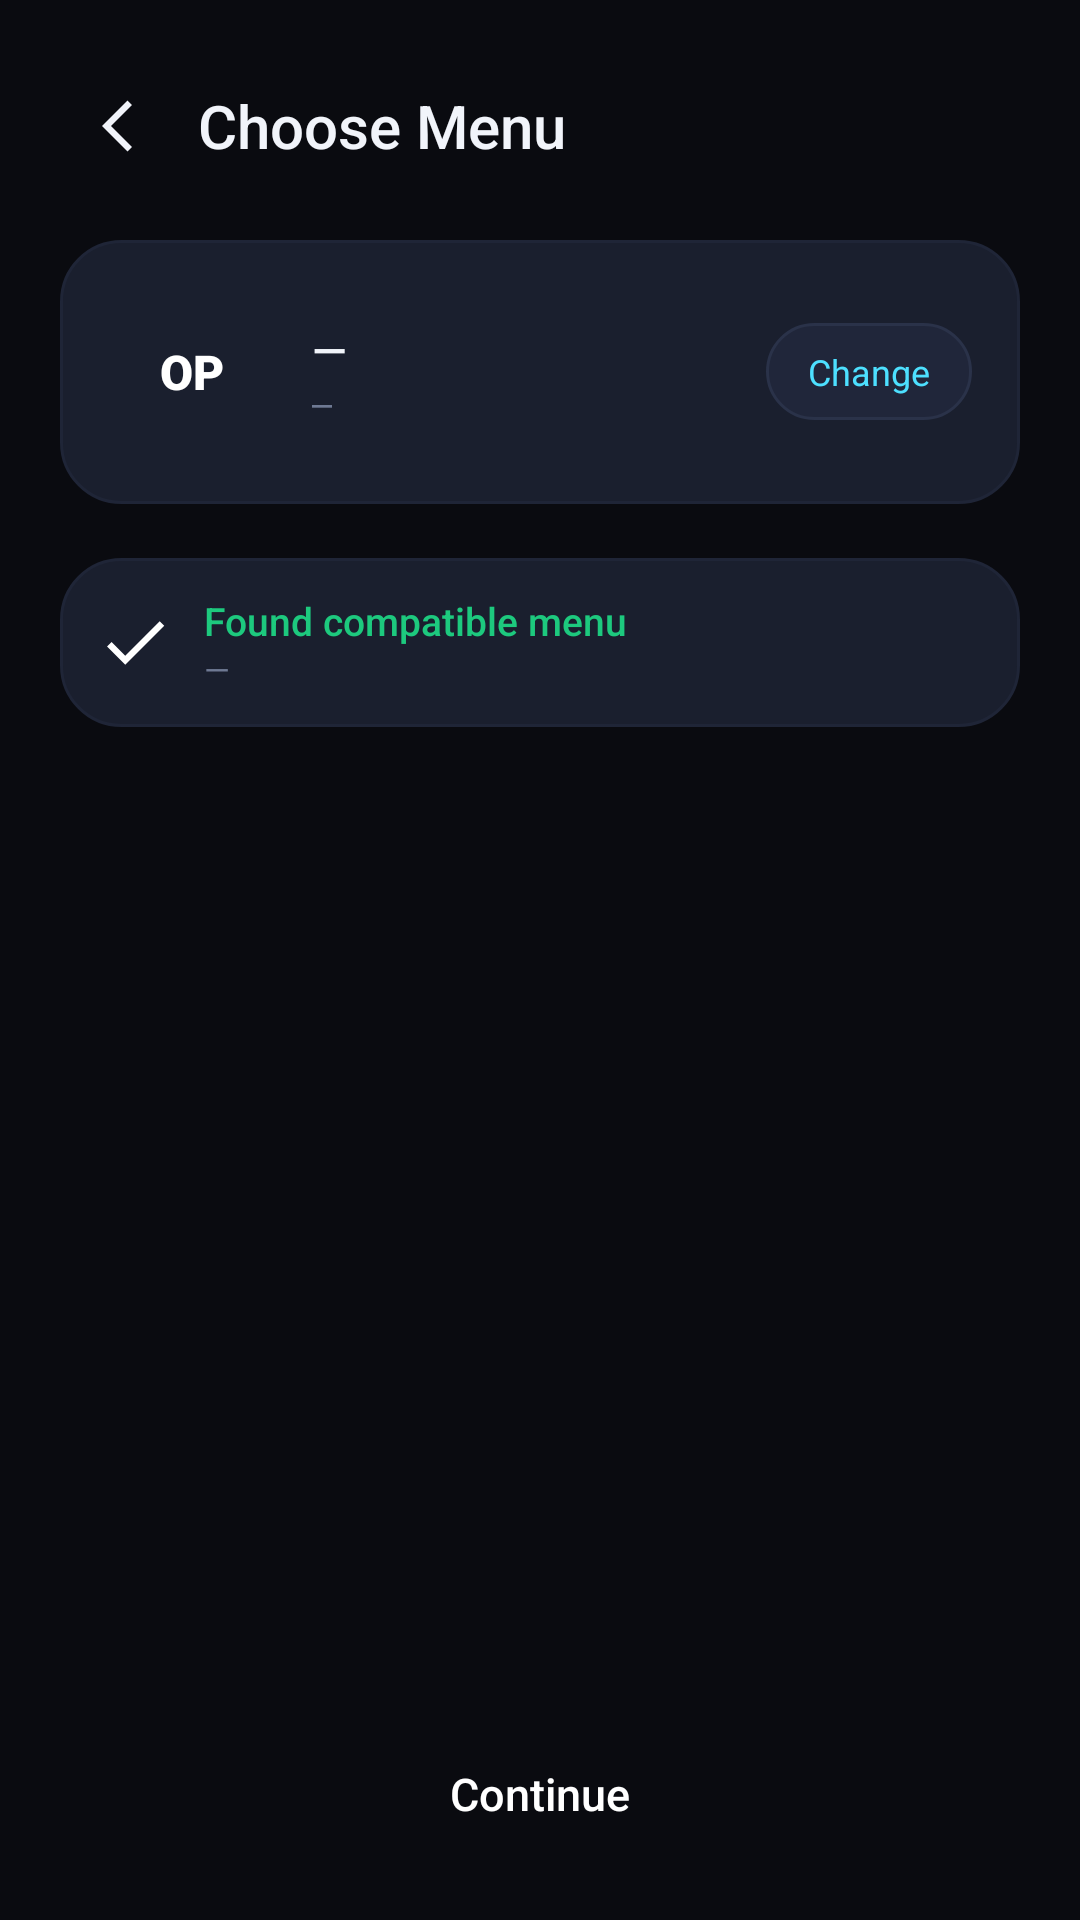

Named icons in this screenshot (1080×1920) and their centers, (x=x, y=y):
back: (x=117, y=126)
check: (x=135, y=643)
